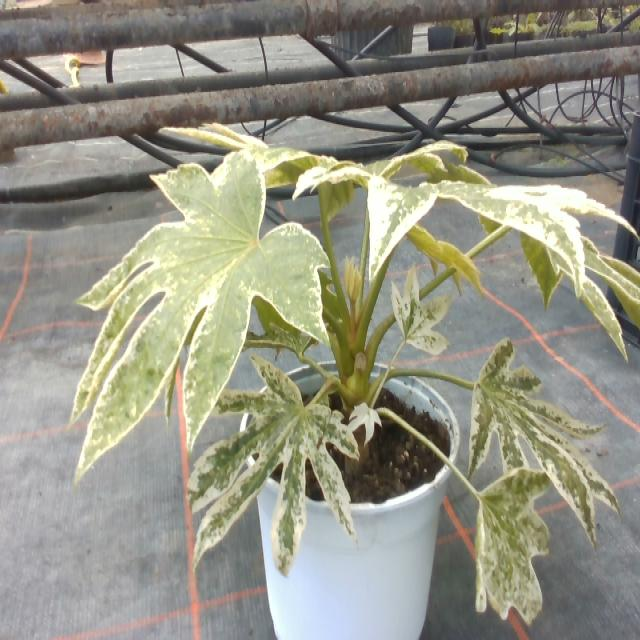Fatsia-japonica: (56, 164, 332, 468), (293, 149, 628, 293), (187, 347, 363, 581), (460, 339, 622, 548), (470, 193, 640, 357), (451, 463, 568, 630), (376, 265, 456, 363)
